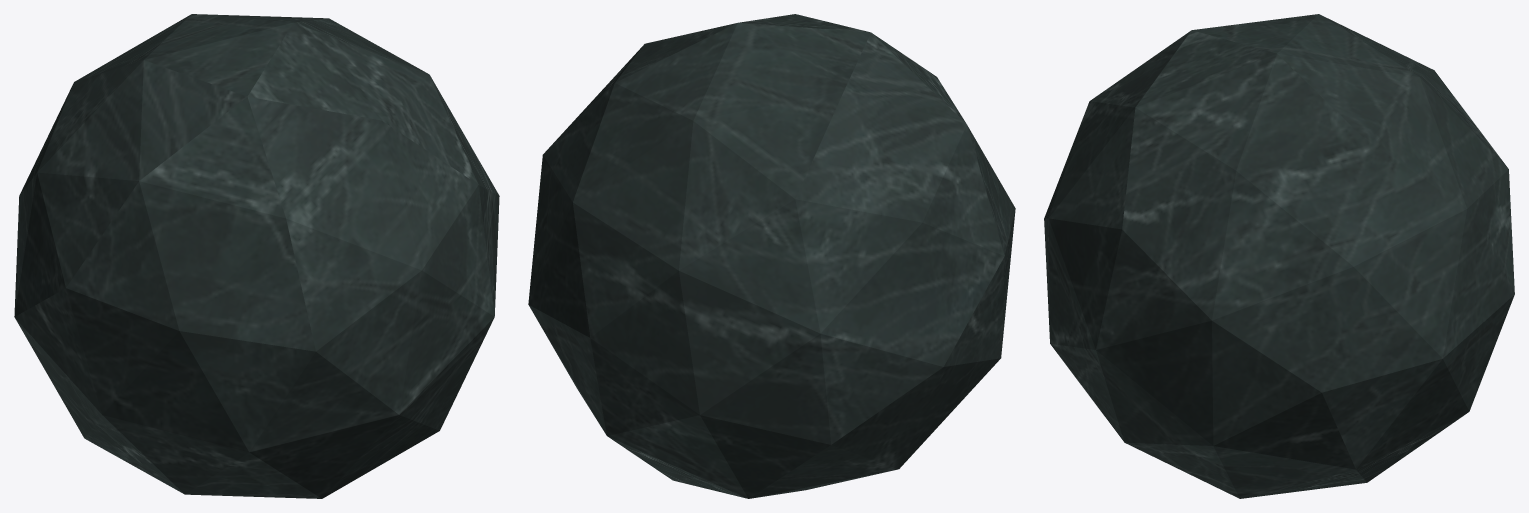
The model's file is PointAlternative.obj.
The picture shows the model from 3 angles, left to right: view 1: azimuth 30°, elevation 25°; view 2: azimuth 150°, elevation 25°; view 3: azimuth 270°, elevation 25°; orthographic projection. The views are drawn at different scales.
Visible parts, largest first — view 1: Point_Malus_Buff; view 2: Point_Malus_Buff; view 3: Point_Malus_Buff.
Boxes of the visible parts, <box> form: Point_Malus_Buff: <box>14,14,499,498</box>; Point_Malus_Buff: <box>528,14,1015,498</box>; Point_Malus_Buff: <box>1044,14,1514,498</box>.
Size of the model in its own units: 0.6033 by 0.6123 by 0.5946.
Materials: 1 (1 with a texture image).
